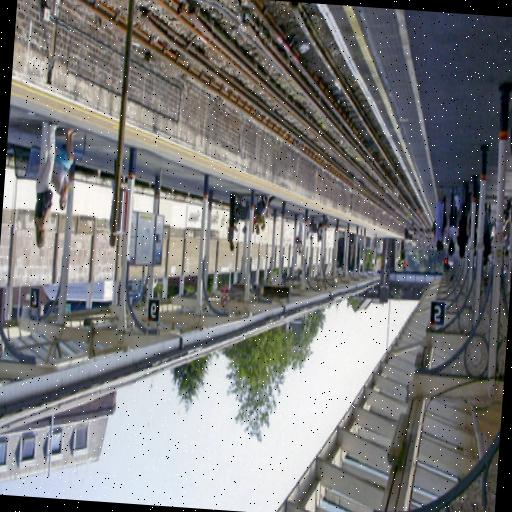platform_edge: (304, 4, 452, 216), (8, 76, 270, 162)
